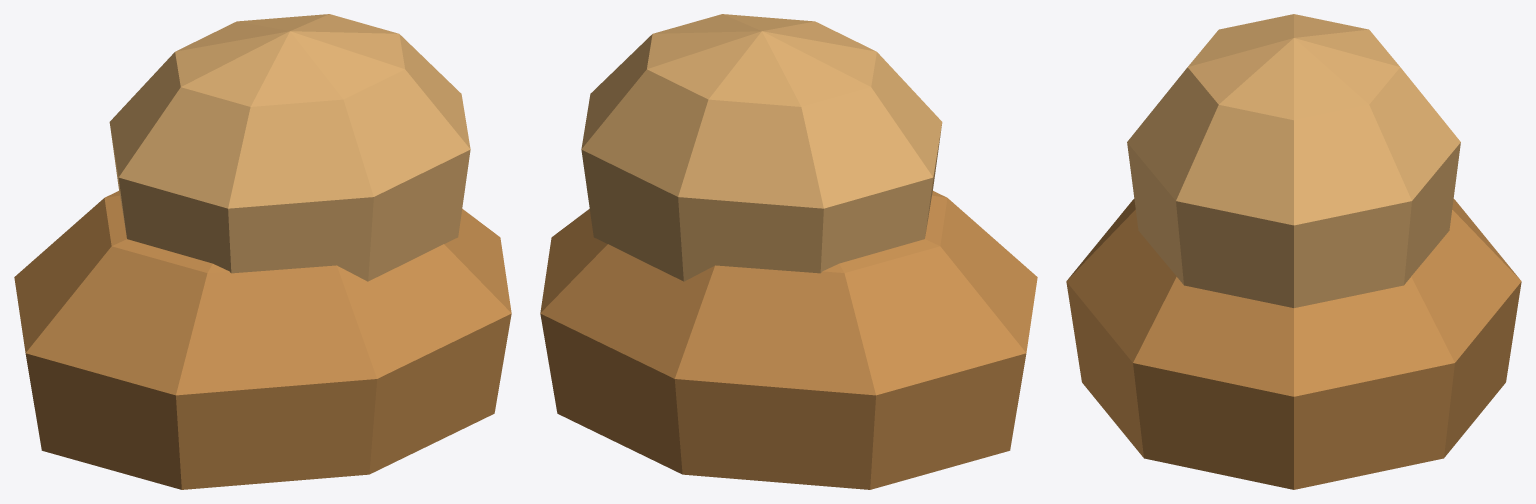
The model's file is env_r5_sandstone_rock.glb.
3 views of the same model, side by side, from view 1: azimuth 30°, elevation 25°; view 2: azimuth 150°, elevation 25°; view 3: azimuth 270°, elevation 25° (orthographic).
Parts seen in each view (by area): view 1: env_r5_sandstone_rock; view 2: env_r5_sandstone_rock; view 3: env_r5_sandstone_rock.
Boxes of the visible parts, <box> form: env_r5_sandstone_rock: <box>14,14,511,489</box>; env_r5_sandstone_rock: <box>540,14,1037,489</box>; env_r5_sandstone_rock: <box>1066,14,1521,489</box>.
Bounding box in the file's own units: 1.8 × 1.3 × 1.5.
1 material, 1 textured.
